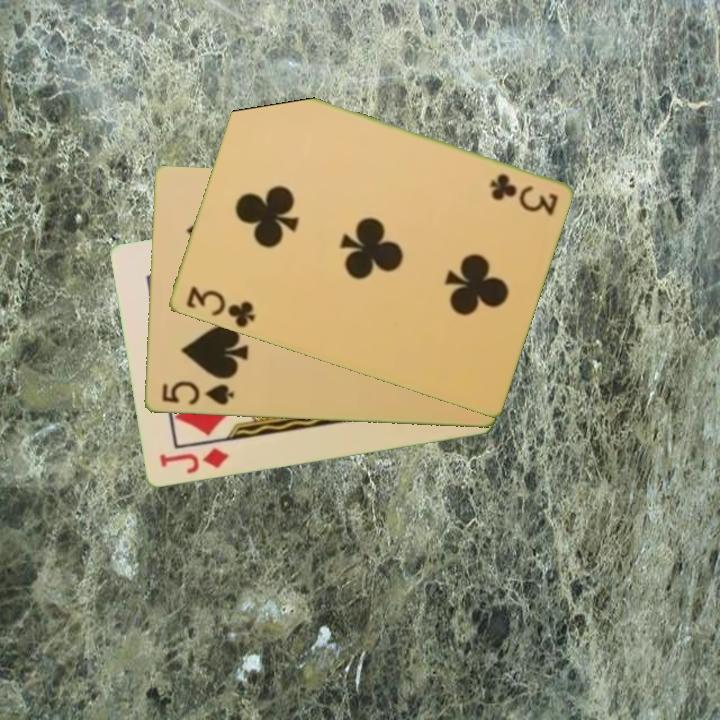3c: (182, 283, 258, 331), (485, 170, 561, 217)
5s: (158, 378, 237, 409)
Jd: (156, 445, 231, 477)
